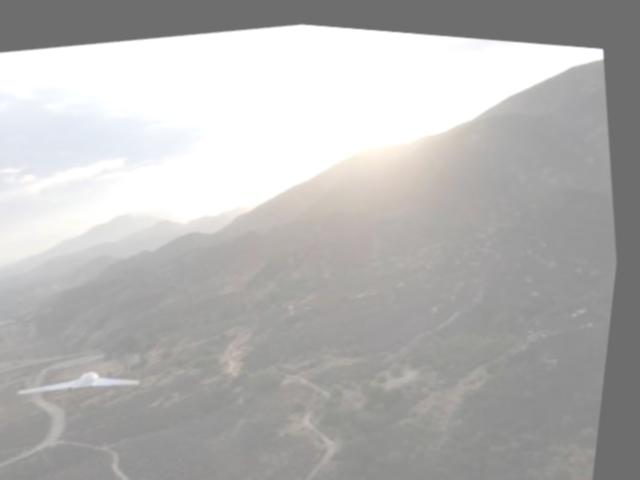iha: (18, 346, 158, 415)
